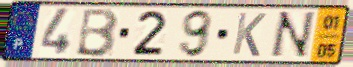2: (131, 9, 170, 58)
4: (38, 5, 74, 59)
9: (176, 9, 216, 59)
B: (73, 7, 121, 59)
K: (230, 10, 269, 59)
N: (266, 10, 318, 60)
